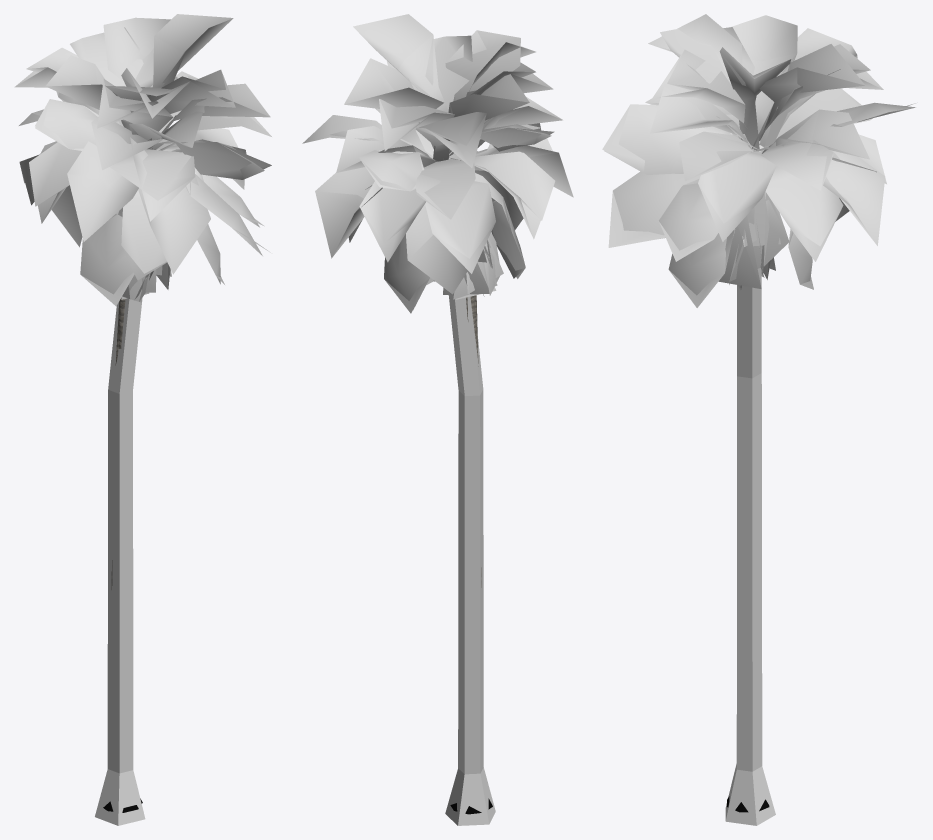
The model's file is fanpalm_slim.dae.
3 renders of one model, left to right at view 1: azimuth 30°, elevation 25°; view 2: azimuth 150°, elevation 25°; view 3: azimuth 270°, elevation 25°, orthographic. The views are drawn at different scales.
Parts seen in each view (by area): view 1: fanpalm_slim_a400, fanpalm_slim_a150, Colmesh_fanpalm_slim-1; view 2: fanpalm_slim_a150, fanpalm_slim_a400, Colmesh_fanpalm_slim-1; view 3: fanpalm_slim_a400, fanpalm_slim_a150, Colmesh_fanpalm_slim-1.
Boxes of the visible parts, box(x1,y1,x2,y2) form: fanpalm_slim_a400: box(14, 14, 271, 812); fanpalm_slim_a150: box(20, 18, 271, 348); Colmesh_fanpalm_slim-1: box(95, 297, 145, 825); fanpalm_slim_a150: box(302, 30, 573, 347); fanpalm_slim_a400: box(315, 14, 562, 814); Colmesh_fanpalm_slim-1: box(445, 295, 495, 825); fanpalm_slim_a400: box(604, 14, 915, 812); fanpalm_slim_a150: box(602, 27, 915, 307); Colmesh_fanpalm_slim-1: box(725, 268, 775, 825).
Size of the model in its own units: 6.58 by 7.92 by 22.26.
